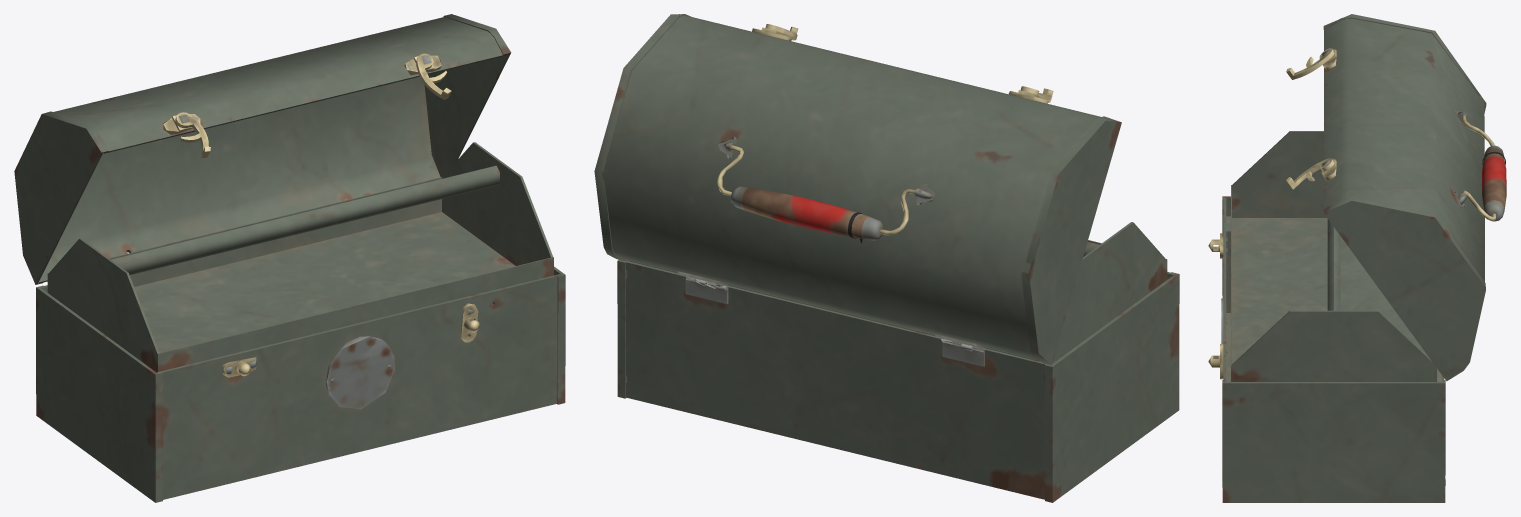
Rendered from metal_toolbox.glb.
3 renders of one model, left to right at view 1: azimuth 30°, elevation 25°; view 2: azimuth 150°, elevation 25°; view 3: azimuth 270°, elevation 25°, orthographic. The views are drawn at different scales.
Parts seen in each view (by area): view 1: metal_toolbox; view 2: metal_toolbox; view 3: metal_toolbox.
Boxes of the visible parts, left/top/right/bottom form: metal_toolbox: left=14, top=14, right=565, bottom=502; metal_toolbox: left=594, top=14, right=1179, bottom=502; metal_toolbox: left=1208, top=14, right=1506, bottom=502.
Bounding box in the file's own units: 0.4 × 0.3047 × 0.2702.
Materials: 1 (1 with a texture image).
